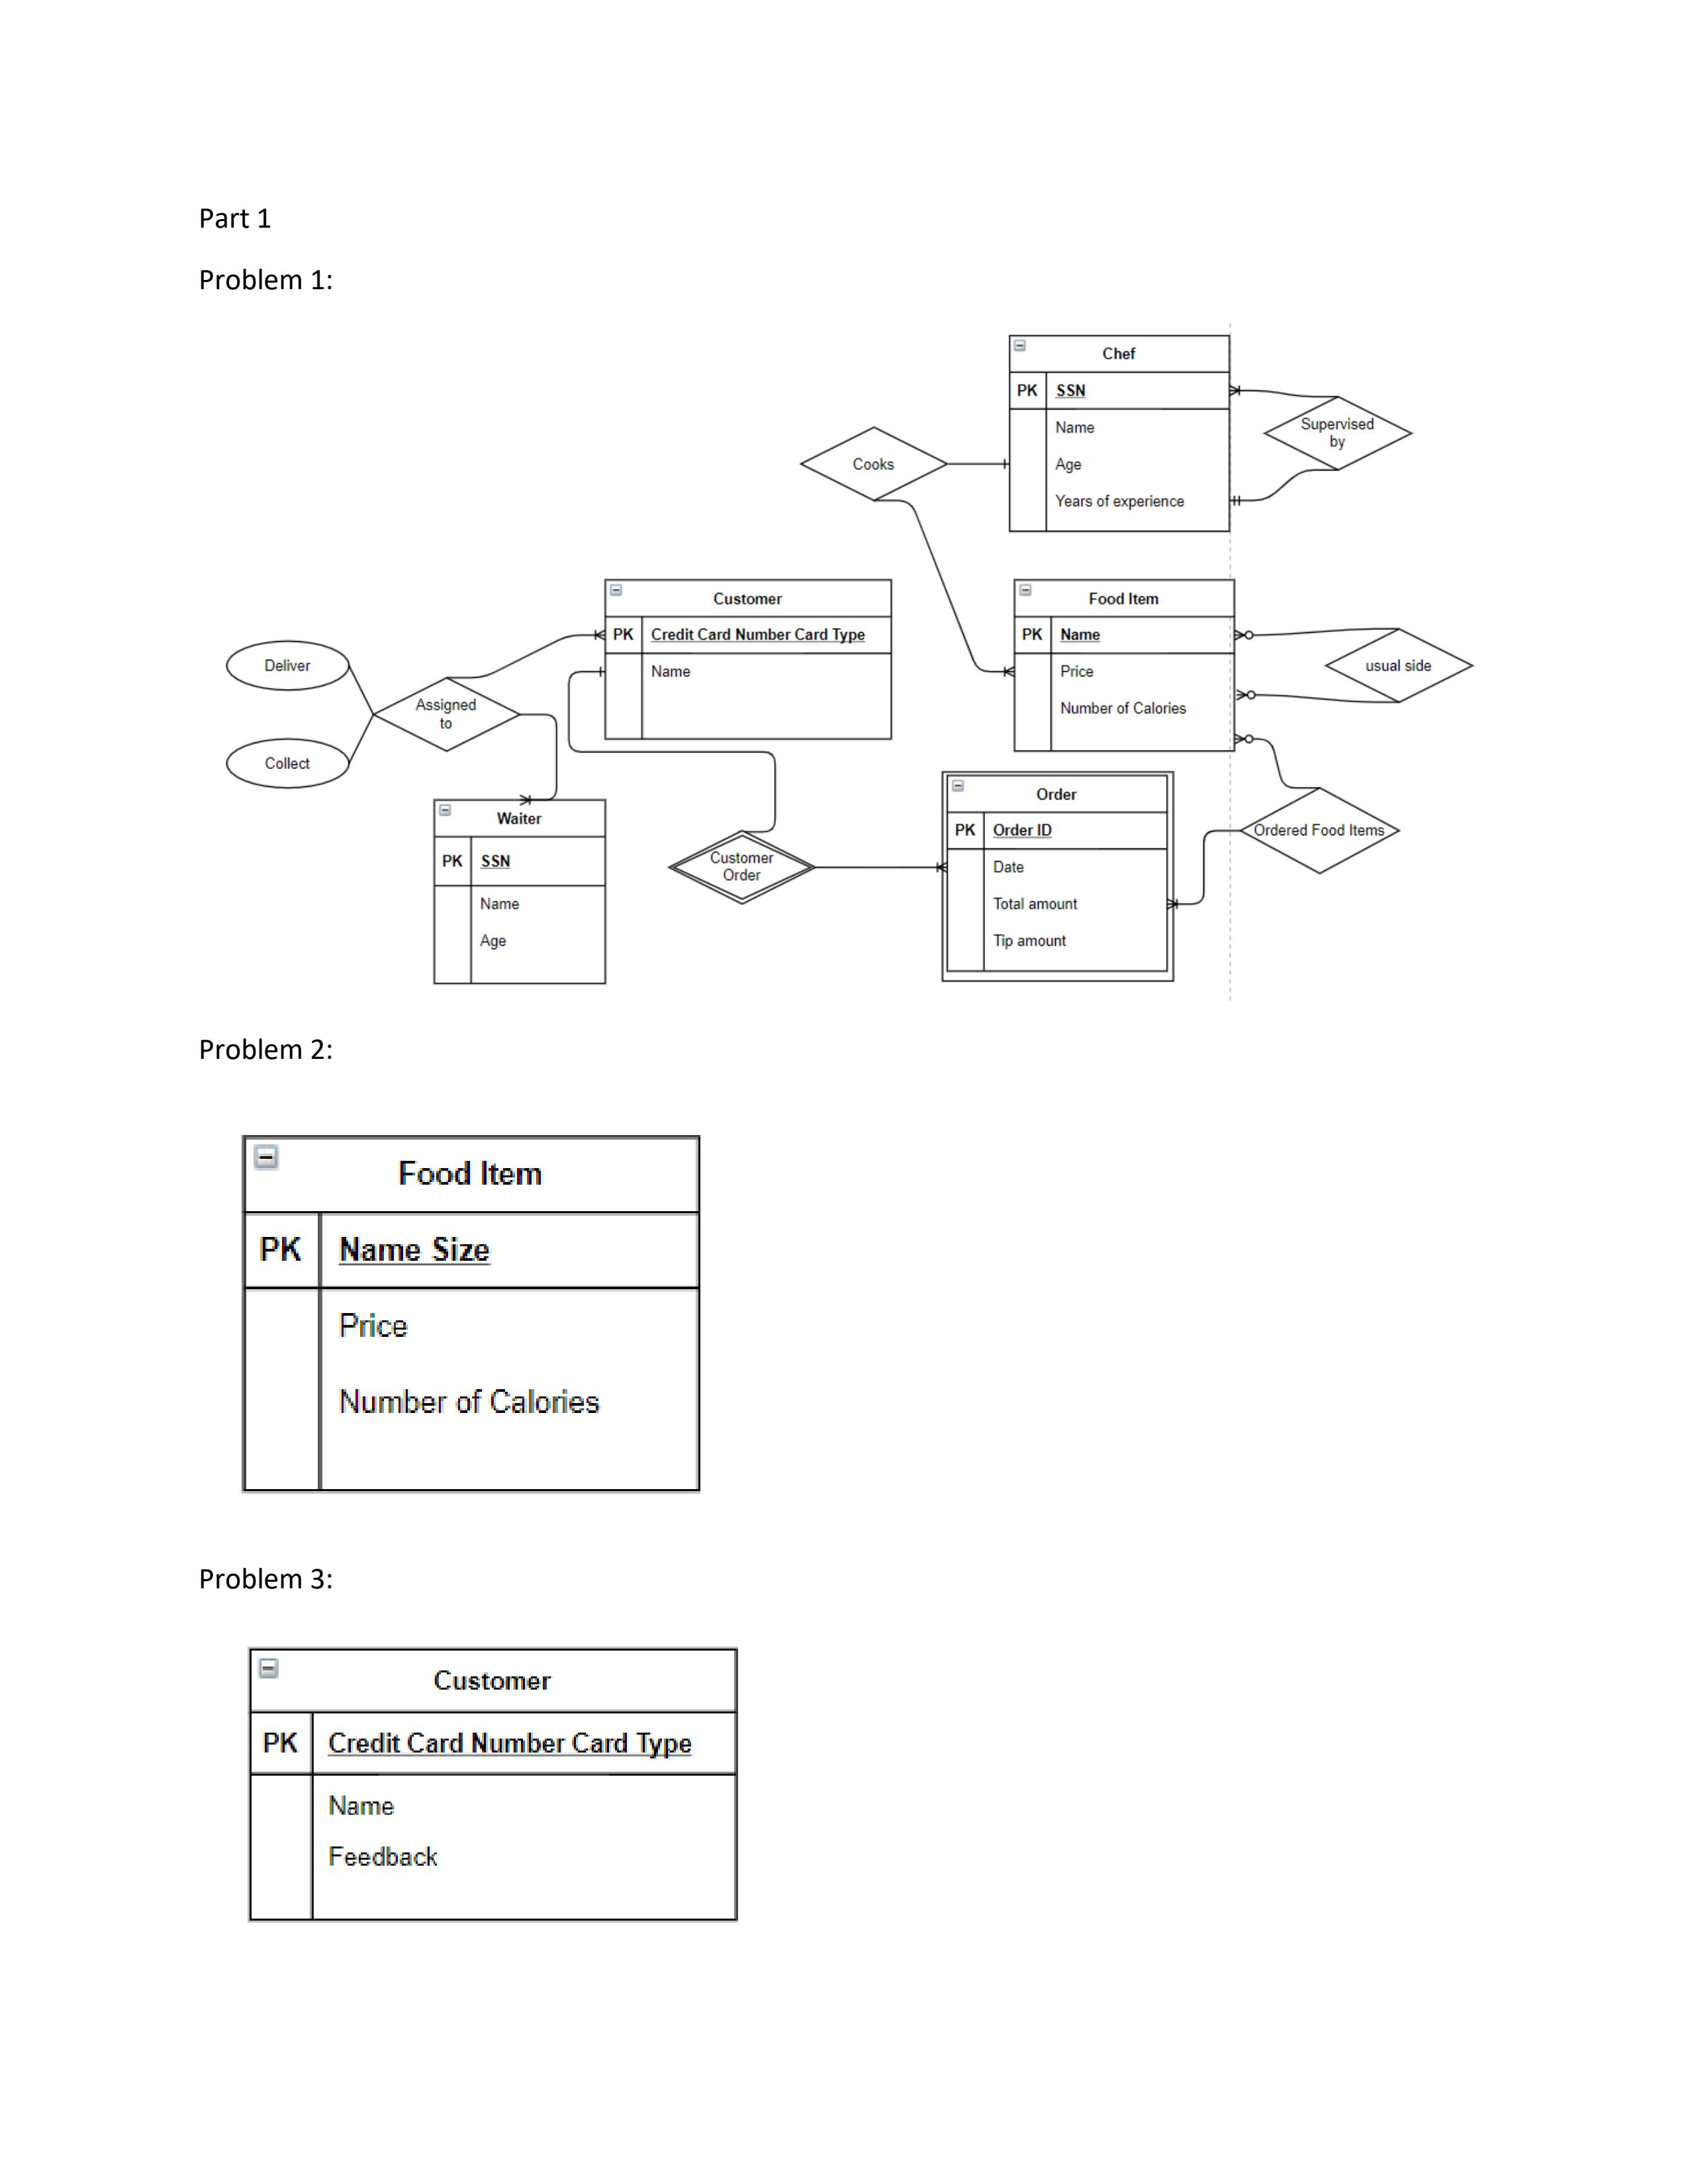Attribute: (227, 636, 351, 693), (225, 736, 351, 789)
Entity: (241, 1133, 706, 1493), (243, 1643, 743, 1925), (938, 762, 1170, 982), (603, 574, 895, 741), (1007, 330, 1236, 534), (1009, 578, 1239, 752), (429, 792, 610, 991)
Relationship: (1246, 787, 1397, 874), (371, 677, 521, 753), (1266, 397, 1413, 473), (803, 427, 947, 502), (1330, 631, 1473, 706), (672, 833, 812, 904)
